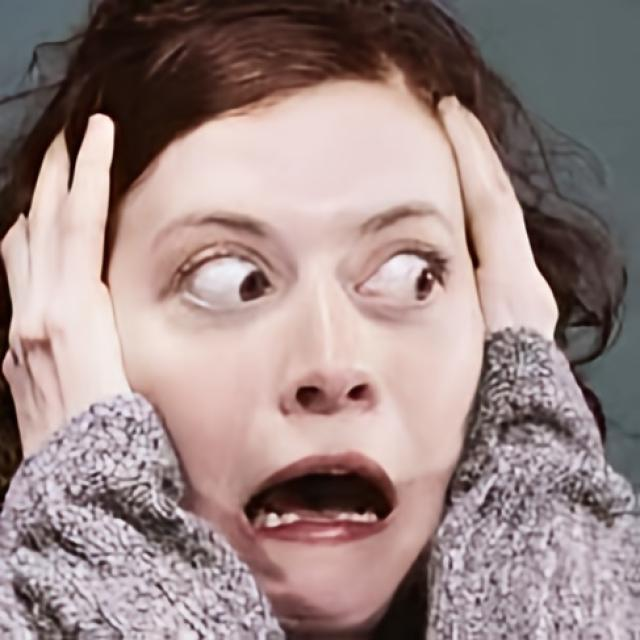fear: (104, 64, 487, 637)
